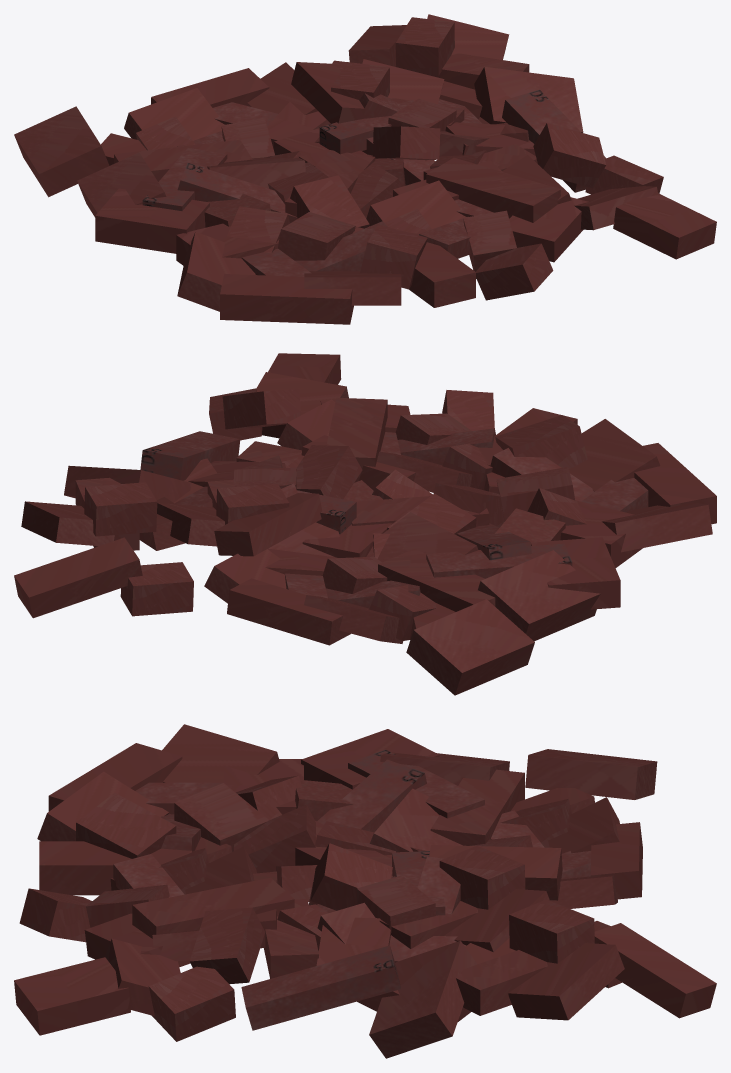
File: CS_debrich_big_01.FBX
3 renders of one model, top to bottom at view 1: azimuth 30°, elevation 25°; view 2: azimuth 150°, elevation 25°; view 3: azimuth 270°, elevation 25°, orthographic. The views are drawn at different scales.
Visible parts, largest first — view 1: SM_debrish_big_01; view 2: SM_debrish_big_01; view 3: SM_debrish_big_01.
Part boxes in pixels (x1,y1,x2,y2): SM_debrish_big_01: (14, 14, 716, 324); SM_debrish_big_01: (14, 353, 716, 695); SM_debrish_big_01: (14, 724, 716, 1058).
Size of the model in its own units: 175 by 182 by 29.57.
